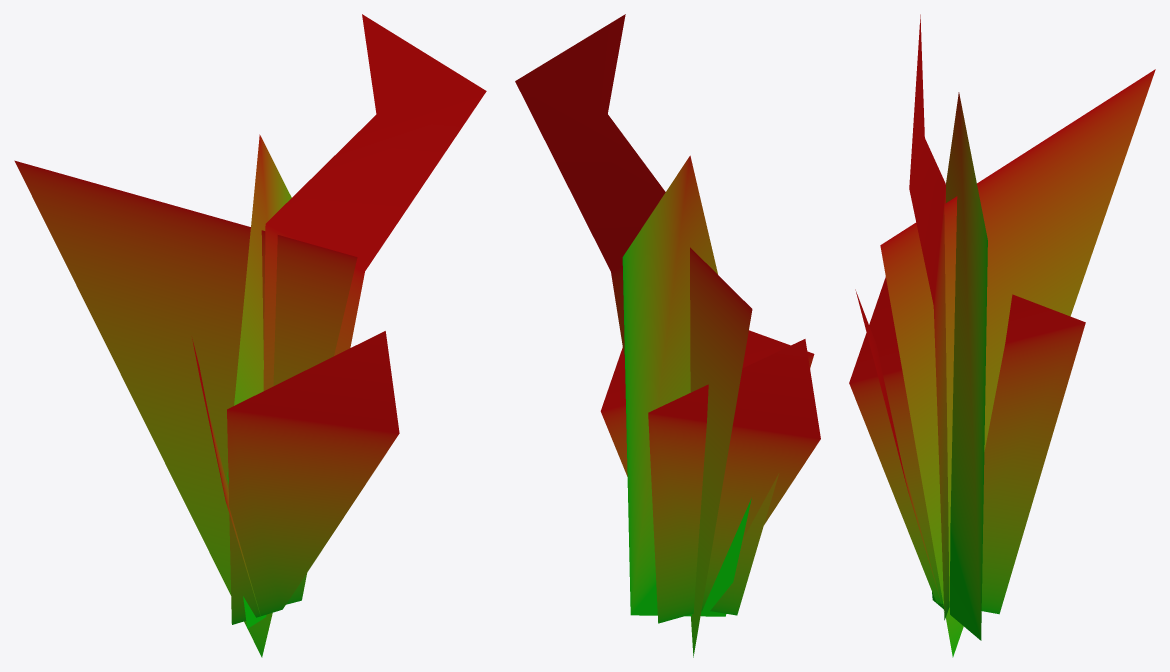
Rendered from scvhd_Var5_LOD0.fbx.
3 renders of one model, left to right at view 1: azimuth 30°, elevation 25°; view 2: azimuth 150°, elevation 25°; view 3: azimuth 270°, elevation 25°, orthographic. The views are drawn at different scales.
Visible parts, largest first — view 1: _5570_Var5_LOD0; view 2: _5570_Var5_LOD0; view 3: _5570_Var5_LOD0.
Part boxes in pixels (bbox=[...]): _5570_Var5_LOD0: bbox=[14, 14, 486, 657]; _5570_Var5_LOD0: bbox=[515, 14, 820, 657]; _5570_Var5_LOD0: bbox=[849, 14, 1155, 657].
Bounding box in the file's own units: 10.37 × 17.5 × 7.06.
